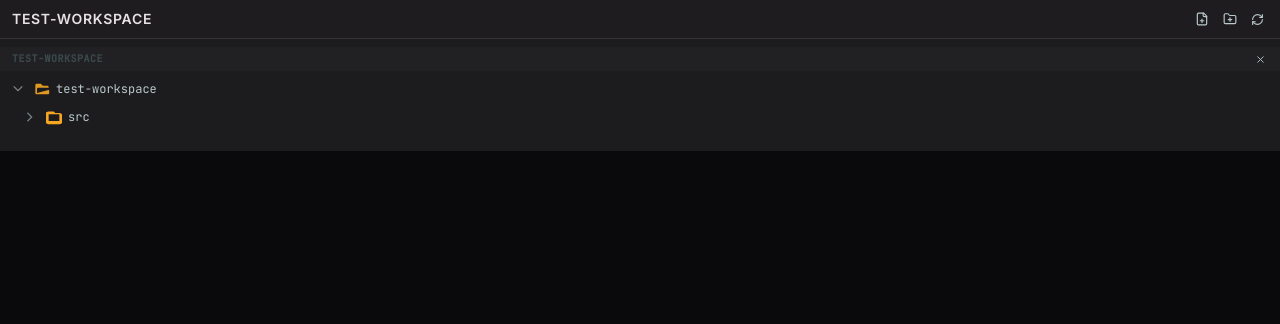
Phase 1: FileExplorer New File and New Folder In-App › validates filename and rejects invalid characters client-side
Click the button titled "New File": x=1202, y=19 [1191,8,1213,30]
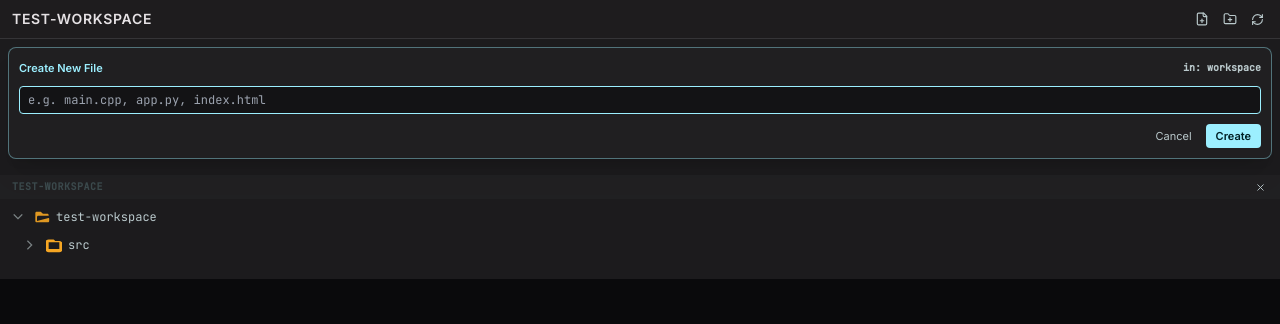
In the field with placeholder "e.g. main.cpp, app.py, index.html": x=640, y=100 [19,86,1261,114], type "bad*file.ts"
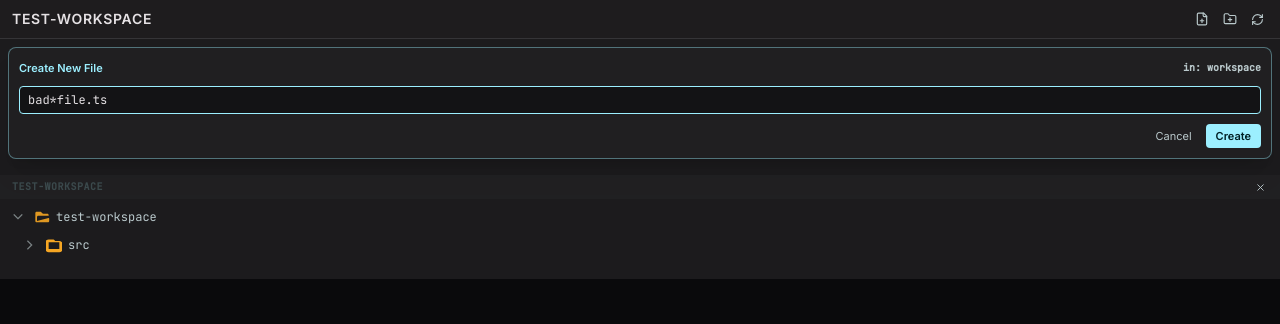
Press Enter in the field with placeholder "e.g. main.cpp, app.py, index.html", box [19,86,1261,114]
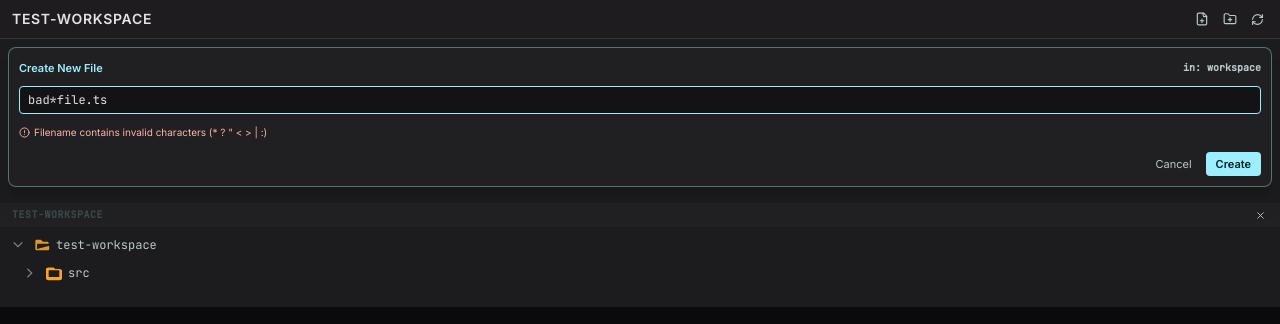
expect the text "Filename contains invalid characters (* ? \" < > | :)" is shown: met, box [34,122,267,142]
